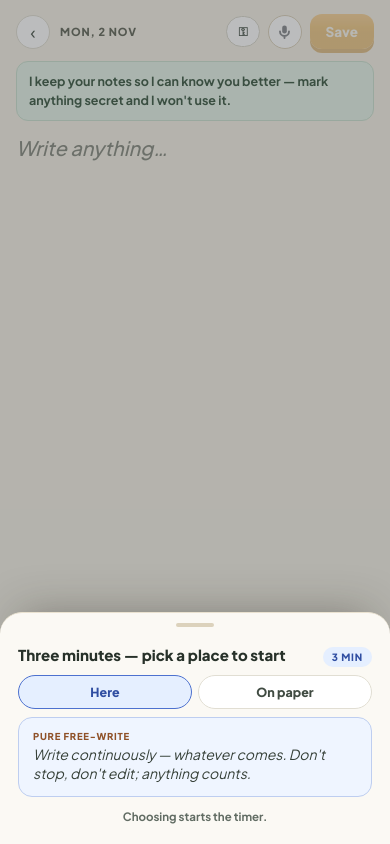
Test: the timed free-write, start to bell › drops the dock mid-session — a running clock already answered both its questions
The width and height of the screenshot is (390, 844).
Click the button "PURE FREE-WRITE" at (195, 757), box [18,717,372,797]
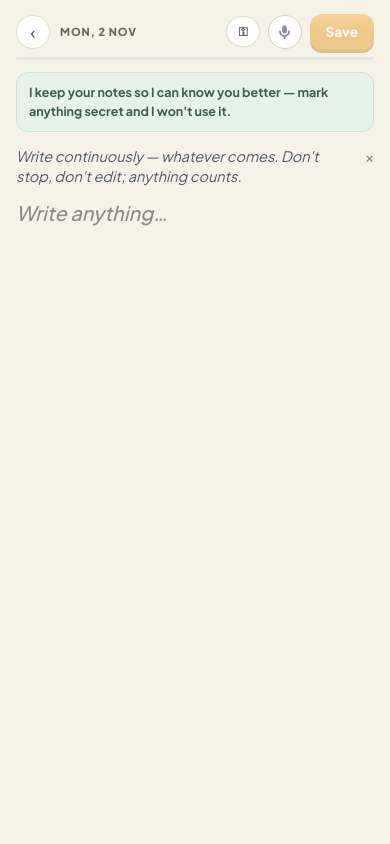
Expected: the button "Start from a question" is gone
Expected: the button "I wrote on paper today" is gone
